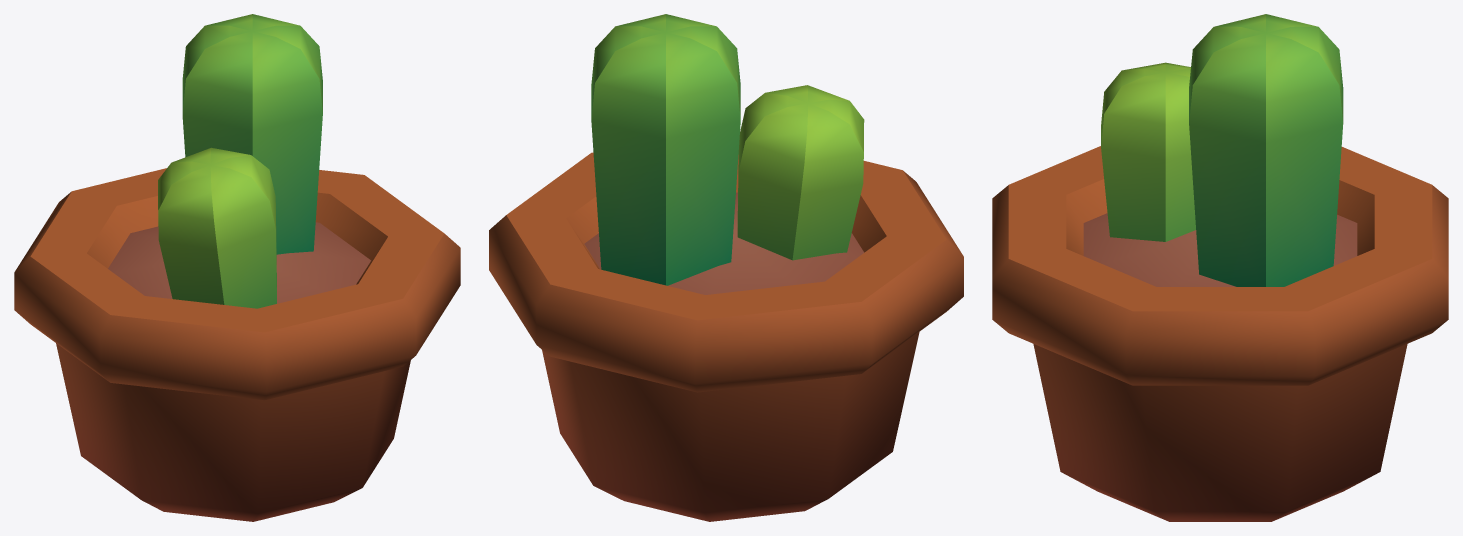
The model's file is cactus-small-a.glb.
The picture shows the model from 3 angles, left to right: view 1: azimuth 30°, elevation 25°; view 2: azimuth 150°, elevation 25°; view 3: azimuth 270°, elevation 25°; orthographic projection. The views are drawn at different scales.
Visible parts, largest first — view 1: cactus_small_A; view 2: cactus_small_A; view 3: cactus_small_A.
Boxes of the visible parts, x1=… form: cactus_small_A: x1=14, y1=14, x2=460, y2=521; cactus_small_A: x1=489, y1=14, x2=963, y2=521; cactus_small_A: x1=992, y1=14, x2=1448, y2=521.
Size of the model in its own units: 0.5 by 0.5516 by 0.5.
